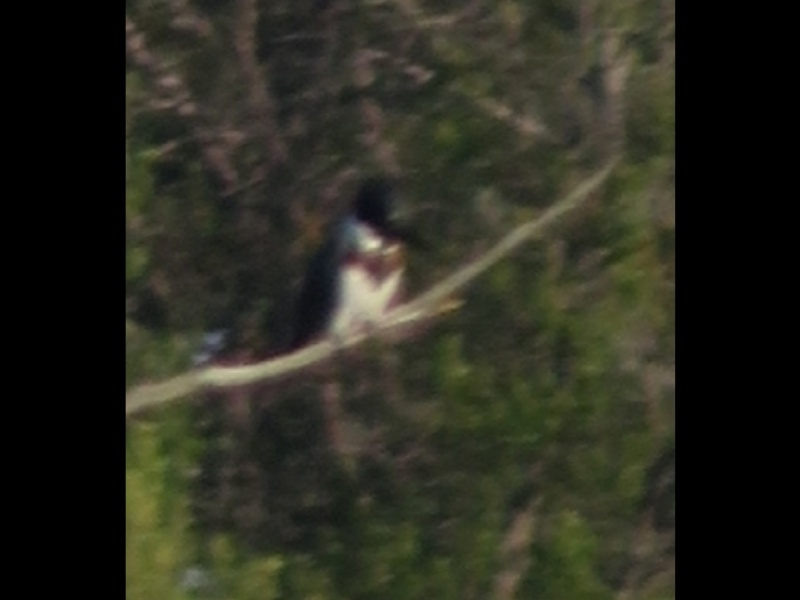kingfisher: (292, 170, 427, 359)
